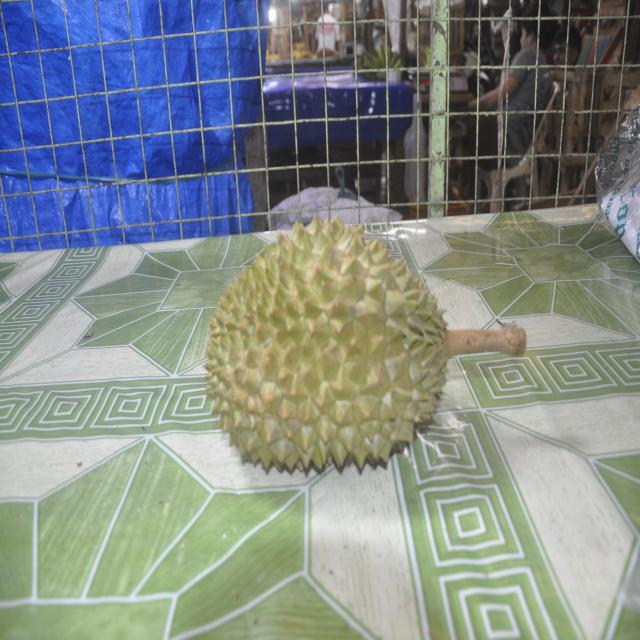mature: (205, 216, 526, 470)
